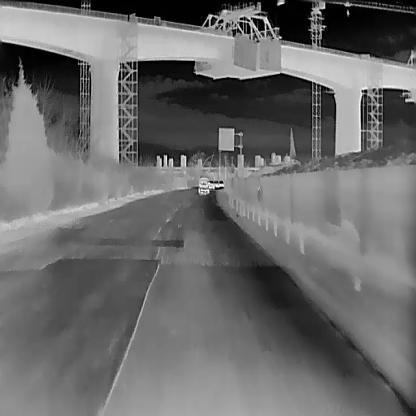car: (198, 177, 209, 195), (208, 181, 214, 189), (214, 180, 218, 188), (219, 180, 224, 186)
